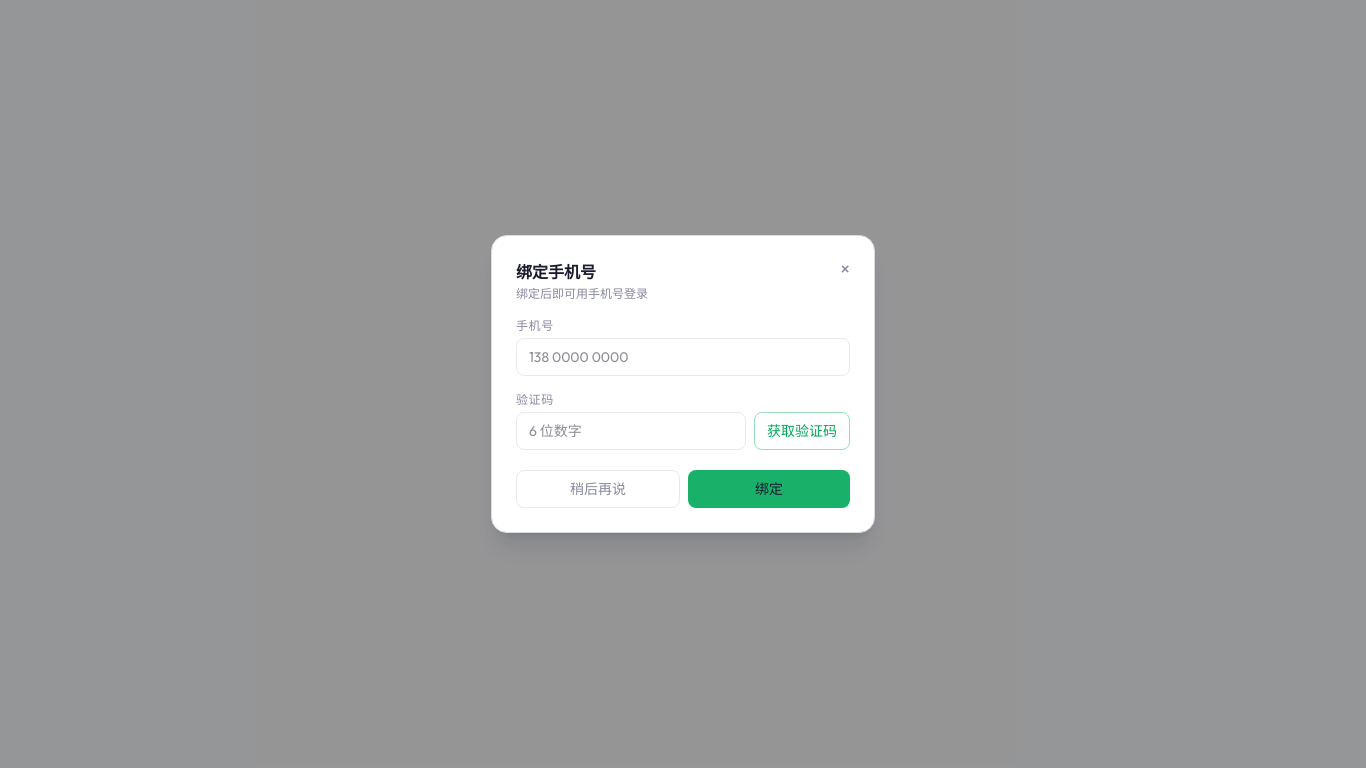
PhoneBindModal › shows the phone_already_bound message when bind is rejected
Type "13800138000" into the field labelled "手机号".
click(683, 357); type("13800138000")  # box [516,338,850,376]
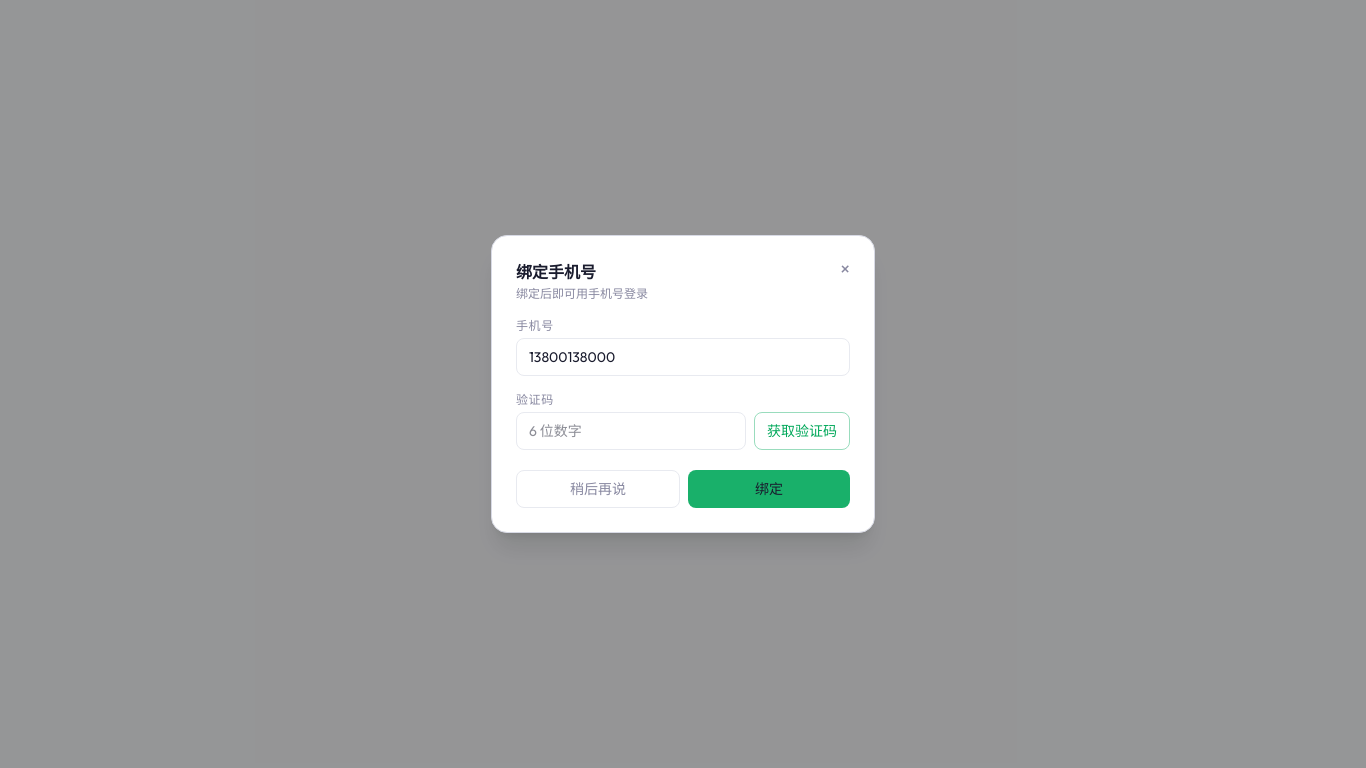
Type "123456" into the field labelled "验证码".
click(631, 431); type("123456")  # box [516,412,746,450]
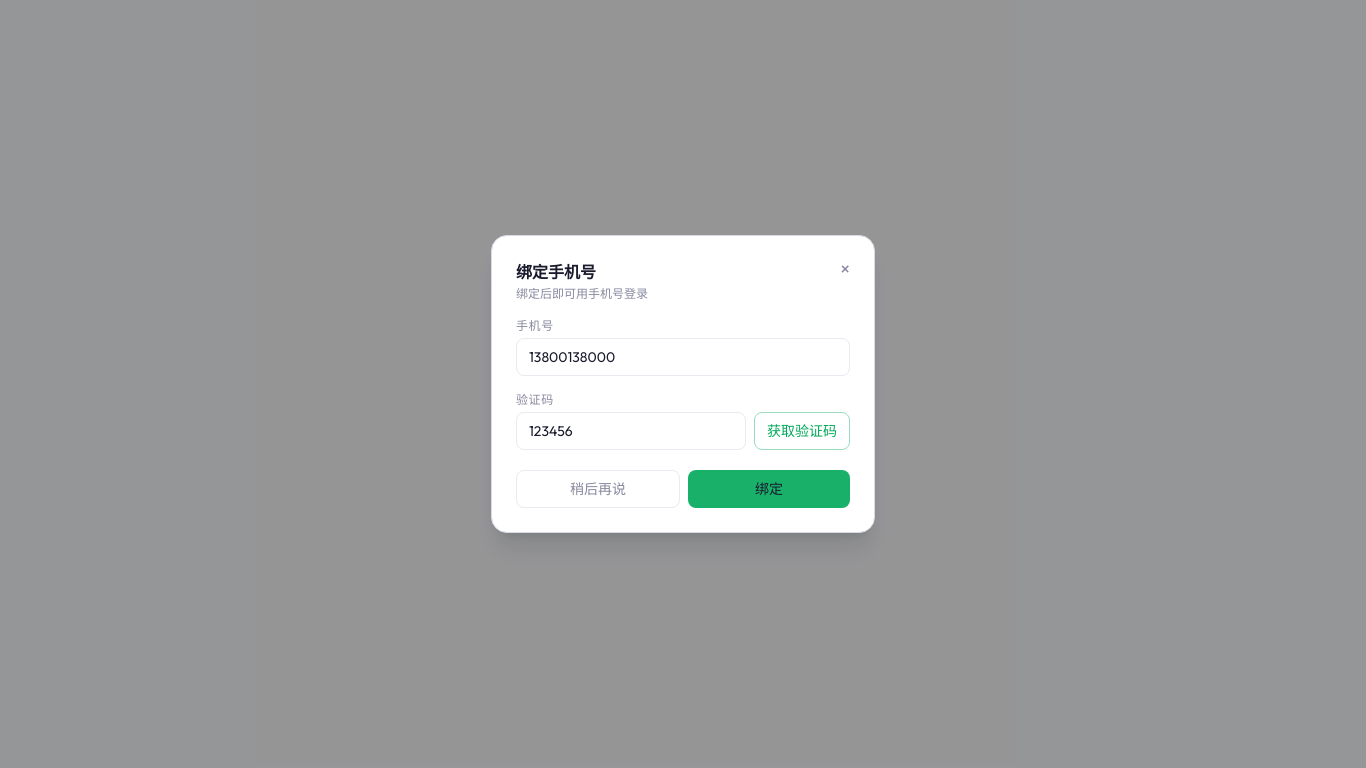
Click the button "绑定".
click(769, 489)  # box [688,470,850,508]
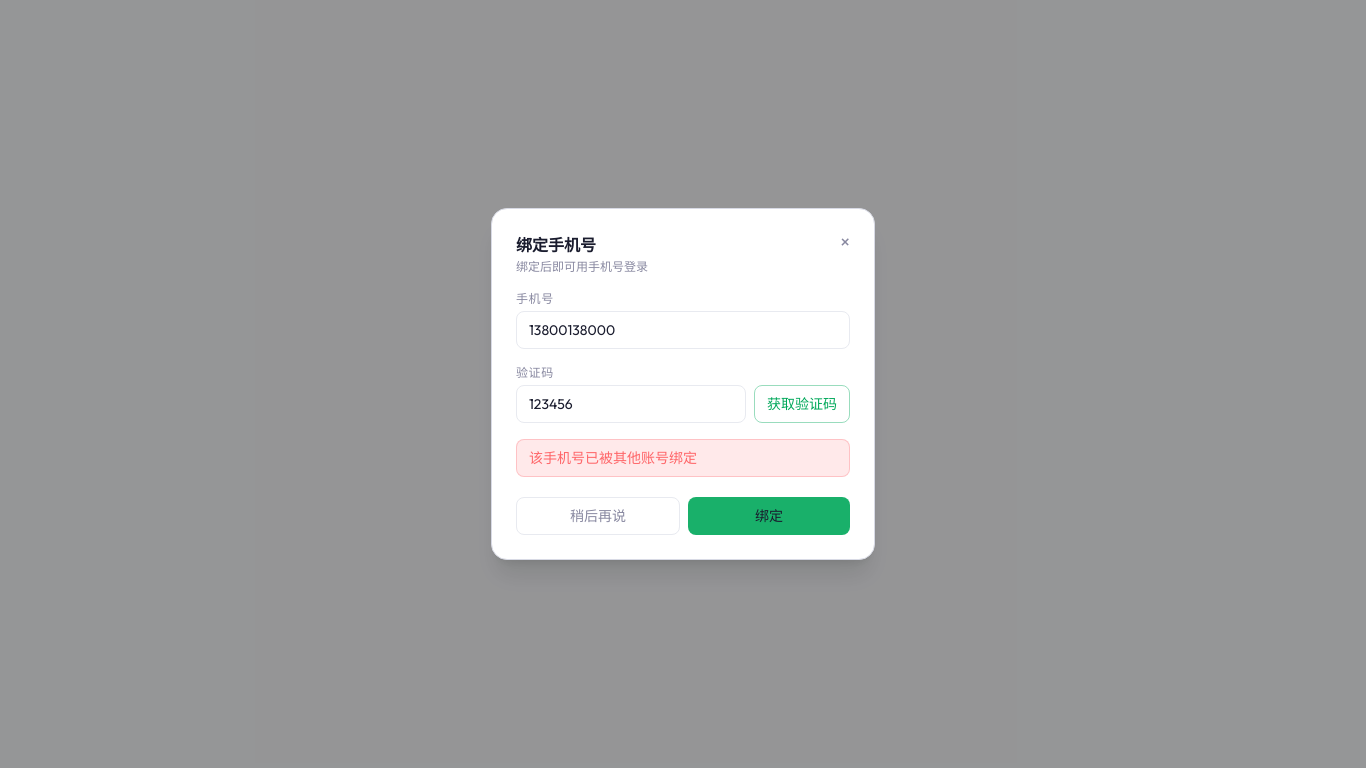
Result: the text "该手机号已被其他账号绑定" is shown at [516,439,850,477]
